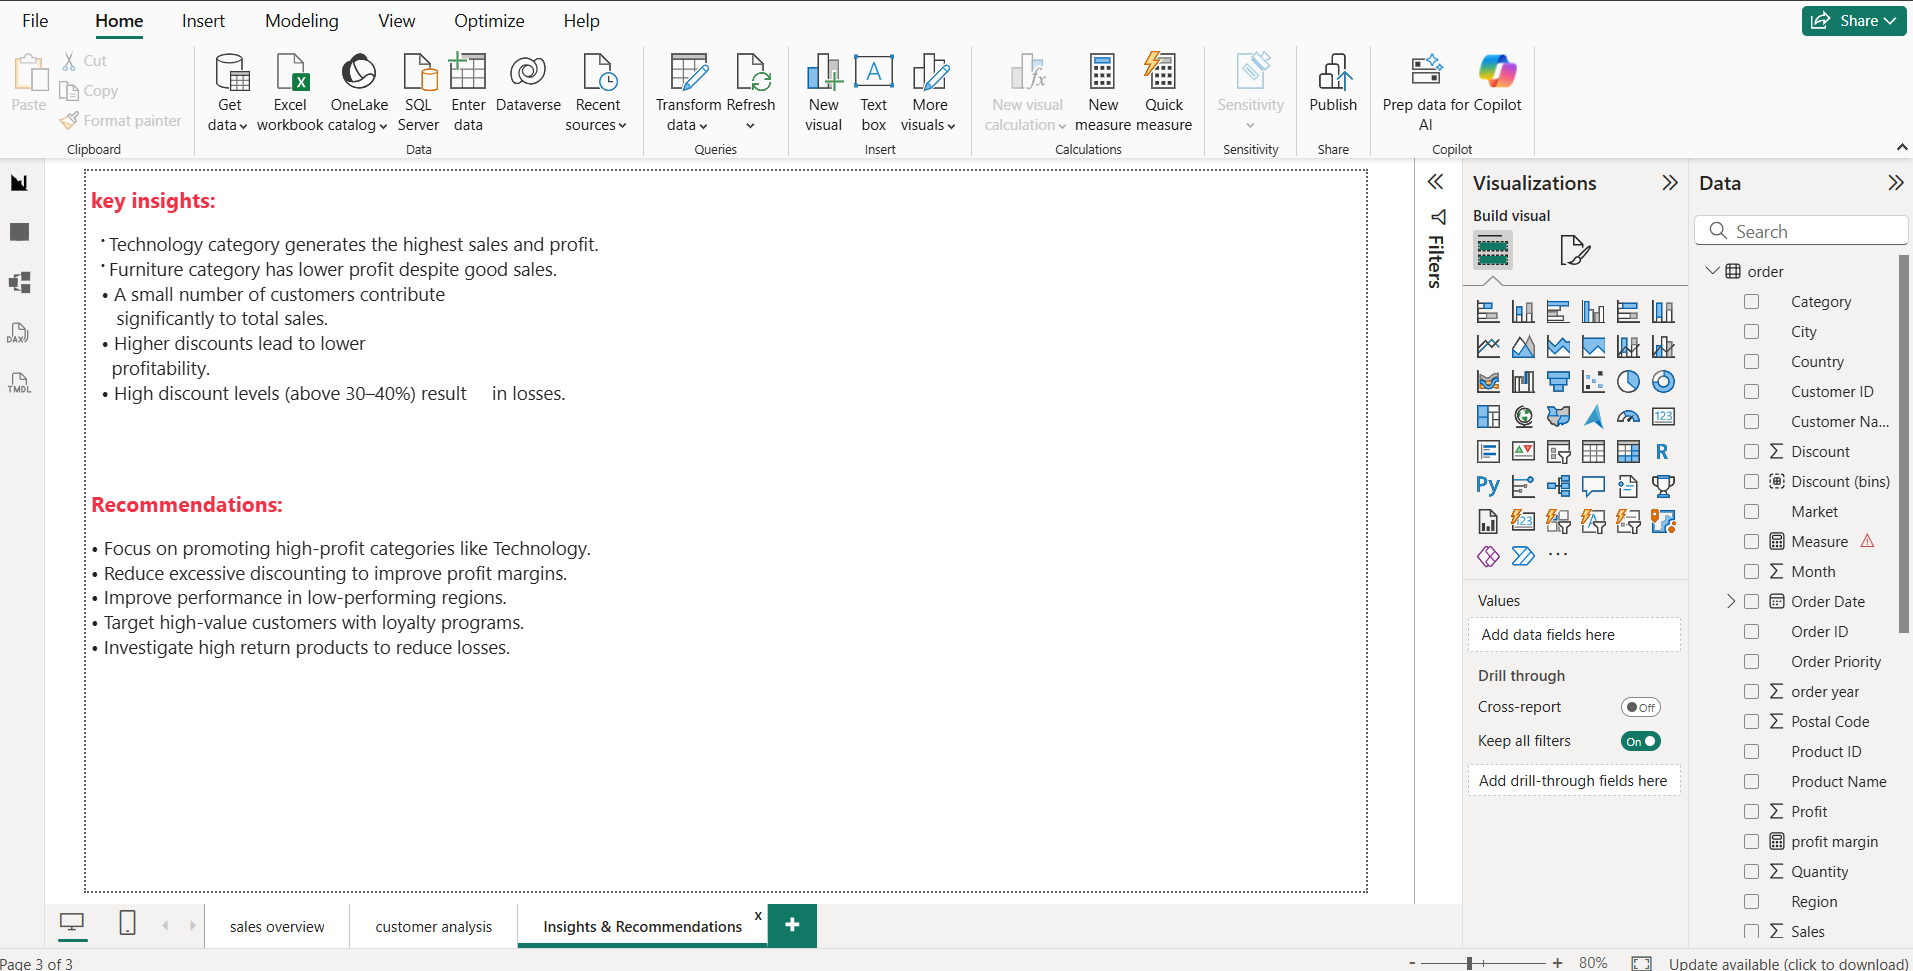

What the dashboard file says about the page in this screenshot:
{"tool":"powerbi","page":{"name":"Insights & Recommendations","canvas":[1280,720],"ordinal":2},"visuals":[{"type":"textbox","box":[0,8.8,657.5,293.8],"z":0},{"type":"textbox","box":[0,312.5,595,207.5],"z":1}]}

Visuals, with their boxes on the page's 1280x720 design canvas (x1, y1, x2, y2). These are canvas units, not pixel positions in the 1913x971 screenshot, which may show the page scaled, cropped or inside an application window:
textbox: bbox=[0, 9, 658, 303]
textbox: bbox=[0, 312, 595, 520]
